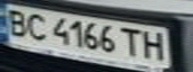1: (66, 18, 84, 48)
4: (48, 16, 72, 46)
6: (81, 20, 103, 52), (97, 22, 118, 55)
B: (0, 6, 33, 37)
C: (21, 11, 51, 42)
H: (139, 29, 169, 62)
T: (118, 26, 145, 59)
